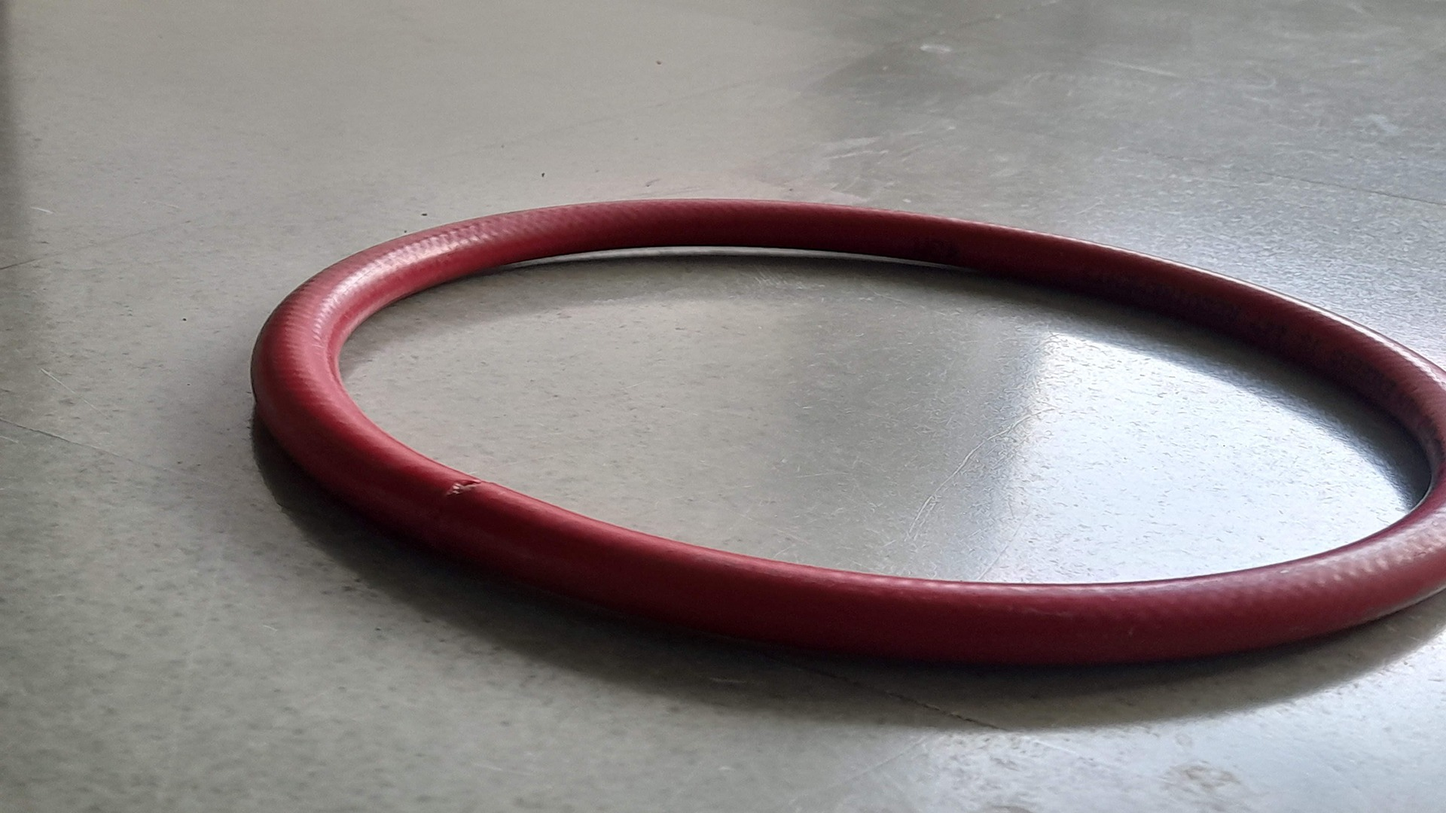Red ring: (257, 199, 1446, 656)
